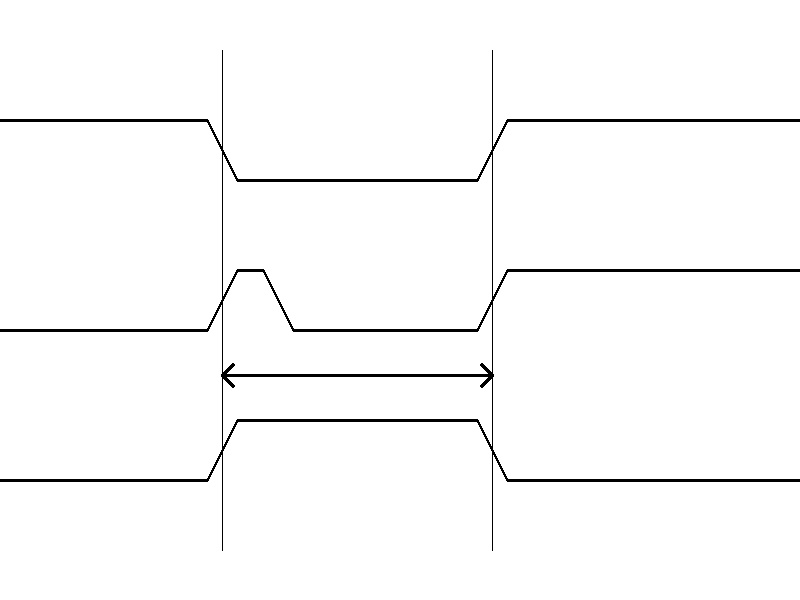double_arrow: (222, 360, 492, 390)
